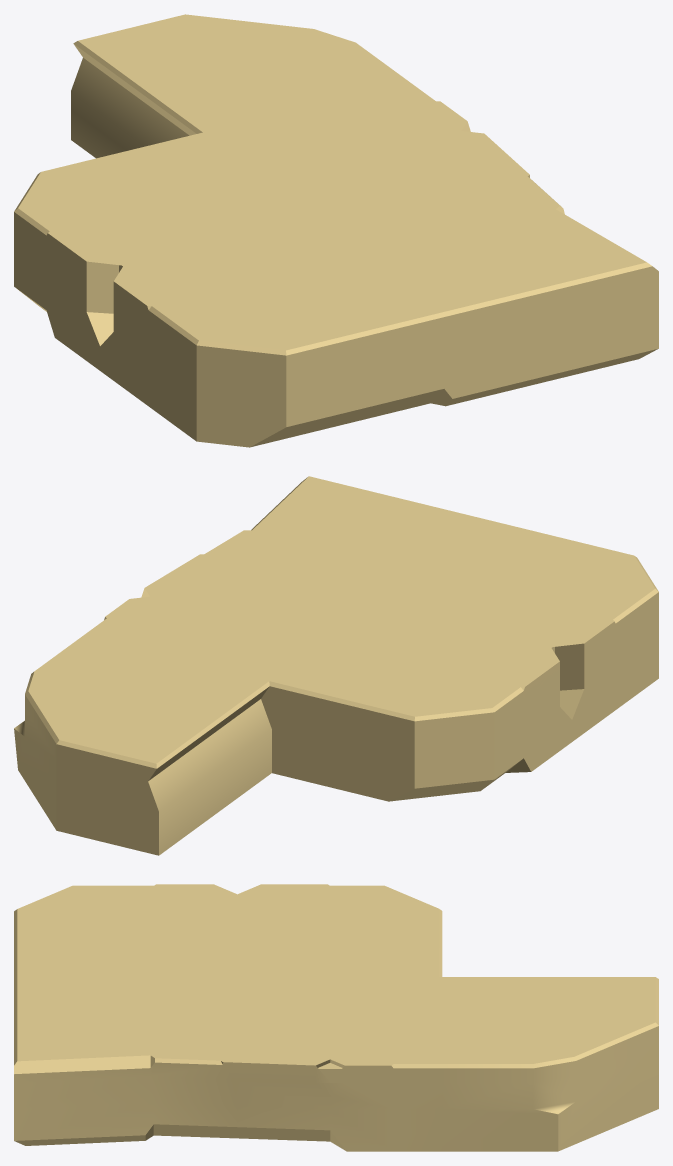
The model's file is Carved_Stones_1.fbx.
3 views of the same model, one above another, from view 1: azimuth 30°, elevation 25°; view 2: azimuth 150°, elevation 25°; view 3: azimuth 270°, elevation 25° (orthographic). The views are drawn at different scales.
Parts seen in each view (by area): view 1: MESH_Carved_Stones_1; view 2: MESH_Carved_Stones_1; view 3: MESH_Carved_Stones_1.
Boxes of the visible parts, bbox=[...] form: MESH_Carved_Stones_1: bbox=[14, 14, 658, 447]; MESH_Carved_Stones_1: bbox=[14, 476, 658, 855]; MESH_Carved_Stones_1: bbox=[14, 884, 658, 1151].
Size of the model in its own units: 16.1 by 3.53 by 23.98.
